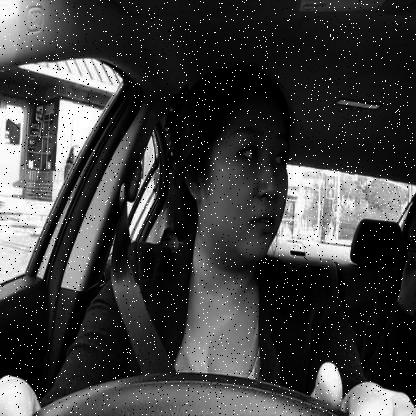seatbelt: (110, 57, 302, 379)
